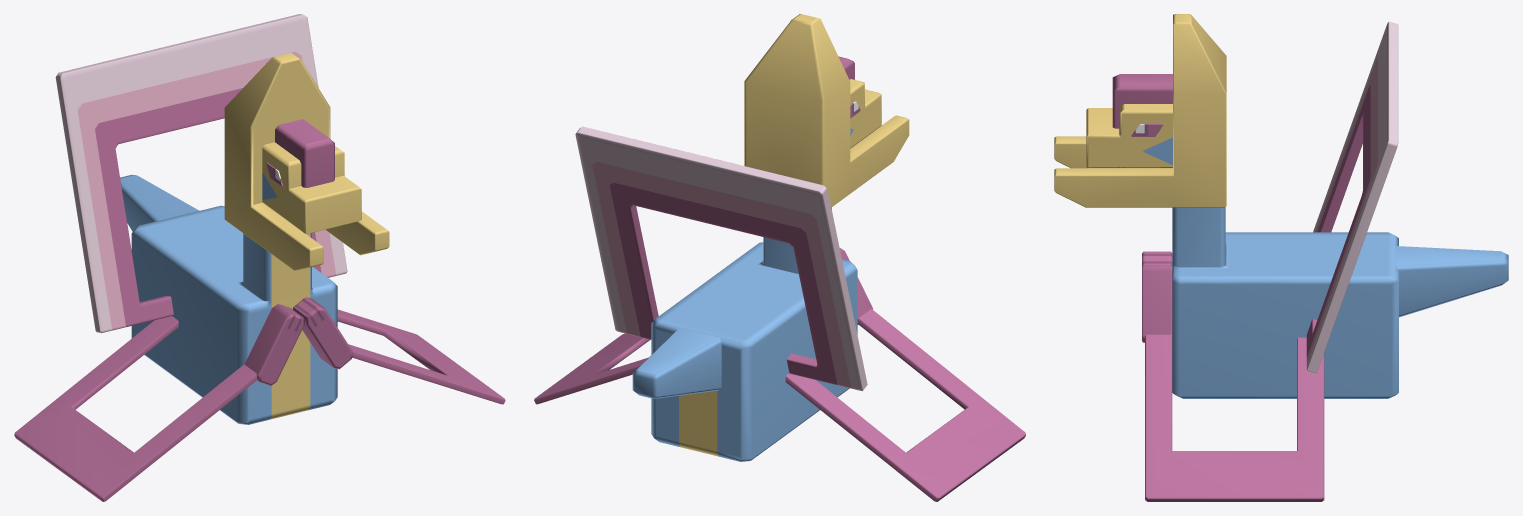
3 views of the same model, side by side, from view 1: azimuth 30°, elevation 25°; view 2: azimuth 150°, elevation 25°; view 3: azimuth 270°, elevation 25° (orthographic).
Parts seen in each view (by area): view 1: 0488_cresselia; view 2: 0488_cresselia; view 3: 0488_cresselia.
Boxes of the visible parts, bbox=[...] form: 0488_cresselia: bbox=[14, 14, 505, 501]; 0488_cresselia: bbox=[534, 14, 1025, 501]; 0488_cresselia: bbox=[1054, 14, 1508, 501].
Size of the model in its own units: 4.32 by 3.91 by 4.18.
1 material, 1 textured.
